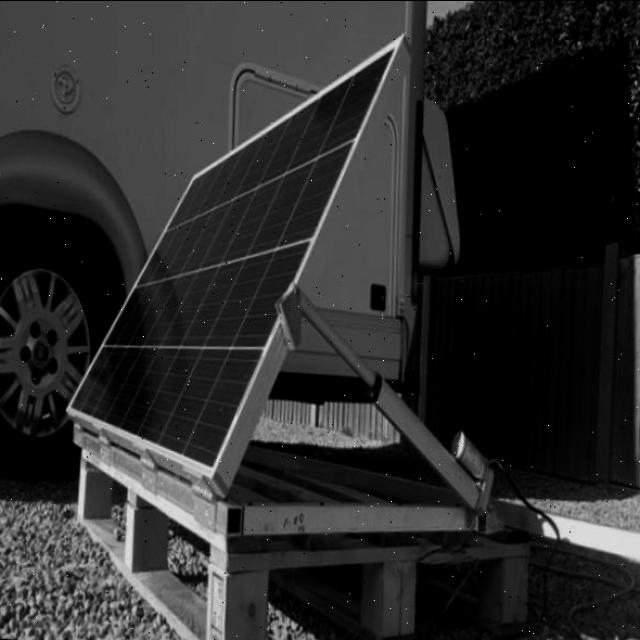Normal Solar Panel: (56, 11, 410, 482)
